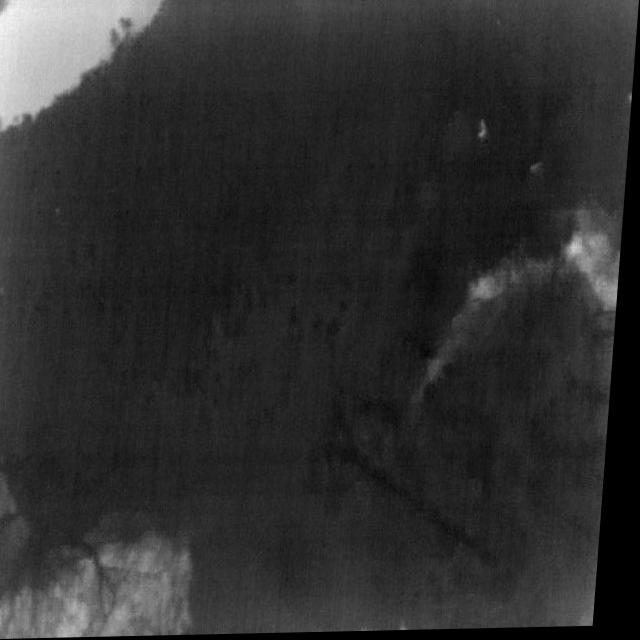deer: (479, 119, 492, 142), (531, 163, 545, 177)
